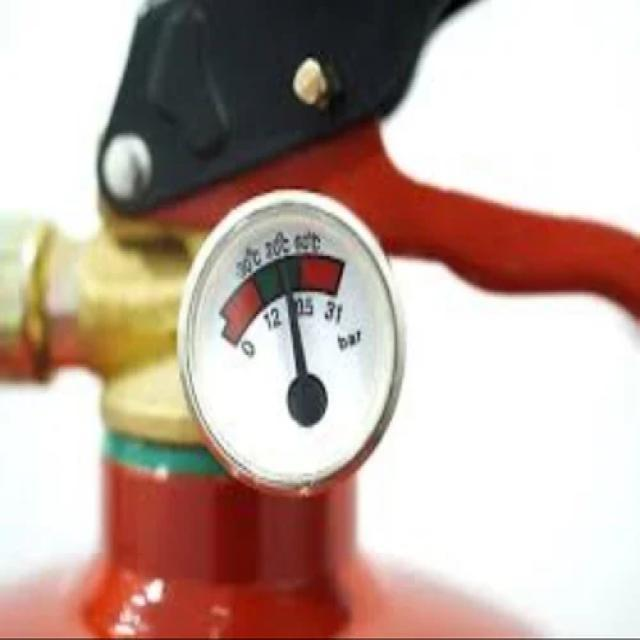pressure gauge: (179, 190, 403, 495)
